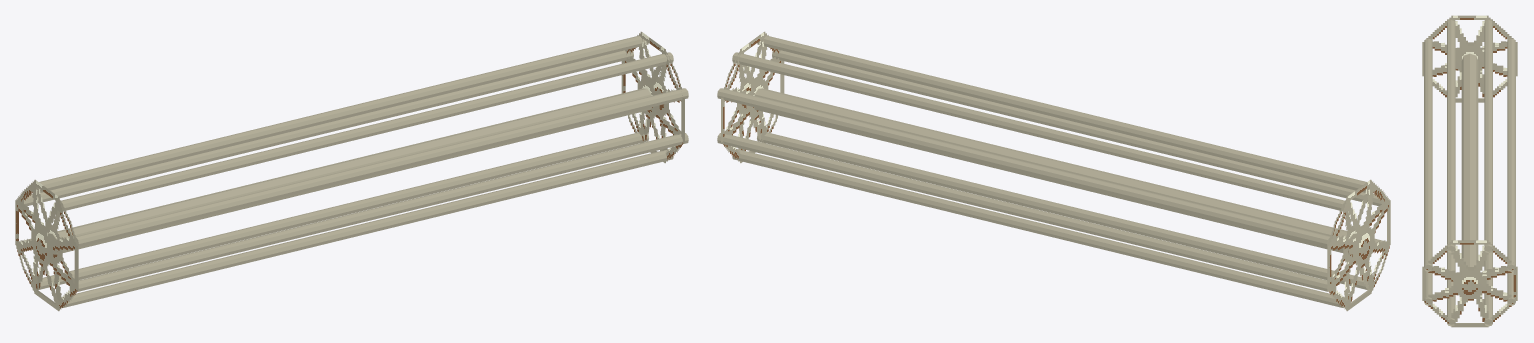
Rendered from Reel.gltf.
3 views of the same model, side by side, from view 1: azimuth 30°, elevation 25°; view 2: azimuth 150°, elevation 25°; view 3: azimuth 270°, elevation 25° (orthographic). The views are drawn at different scales.
Parts seen in each view (by area): view 1: Reel; view 2: Reel; view 3: Reel.
Part boxes in pixels (x1,y1,x2,y2): Reel: [15, 31, 688, 311]; Reel: [717, 31, 1390, 311]; Reel: [1422, 15, 1517, 327].
Size of the model in its own units: 16.38 by 3 by 3.
Materials: 1 (1 with a texture image).
